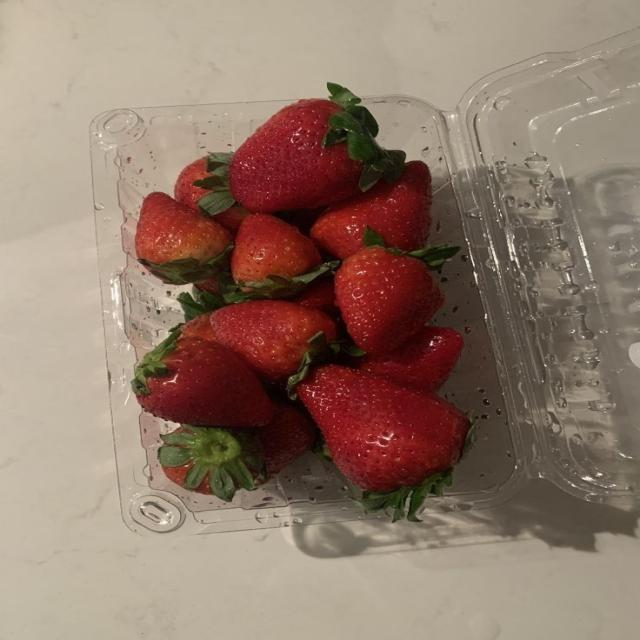strawberry: (298, 366, 470, 519), (229, 83, 405, 213), (159, 404, 315, 501), (132, 330, 273, 426), (311, 161, 431, 259), (335, 247, 443, 353), (211, 300, 336, 380), (135, 192, 232, 284), (360, 327, 463, 391), (232, 214, 321, 282), (252, 403, 316, 476), (174, 157, 215, 214), (293, 278, 339, 319), (274, 209, 323, 236), (178, 312, 215, 340), (194, 278, 219, 294)
